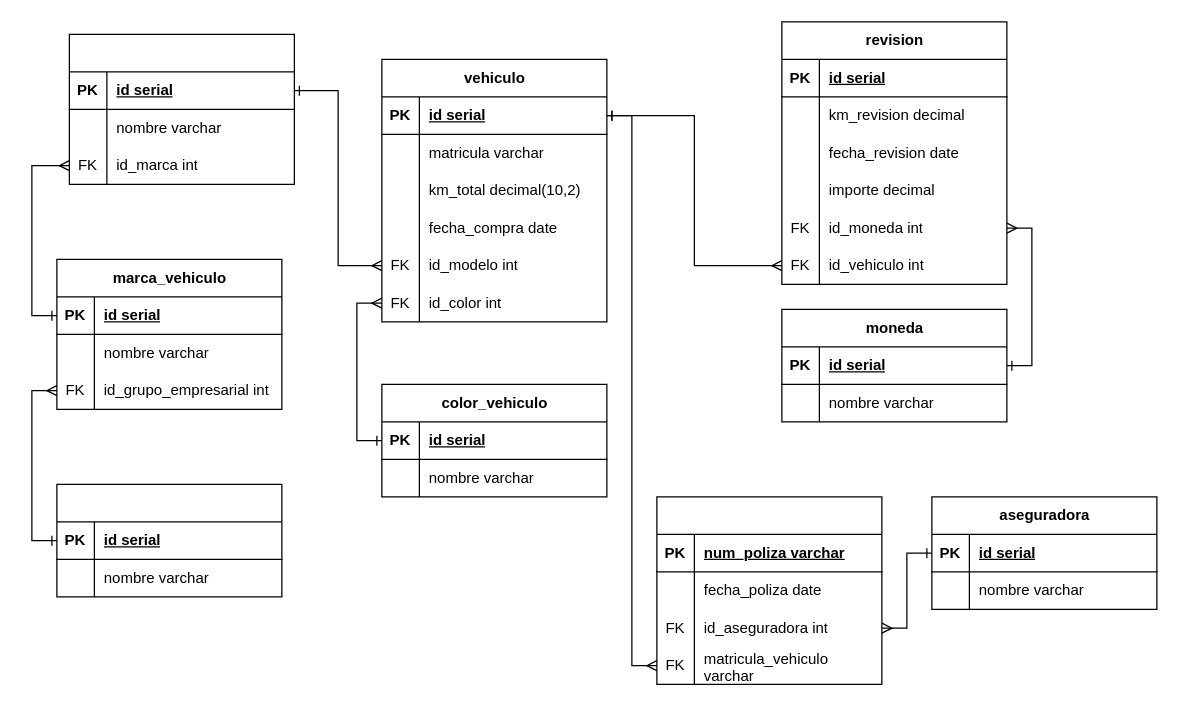
Image size: 1179x706. Some labels were removed from this diagram. The shapes that lost their labels are listed below. From the top down, each one's box as (x1, y1, x2, y2) in pixels, then its label:
(68, 33, 294, 184): modelo_vehiculo
(56, 483, 282, 597): grupo_empresarial
(656, 496, 882, 684): poliza_seguro
